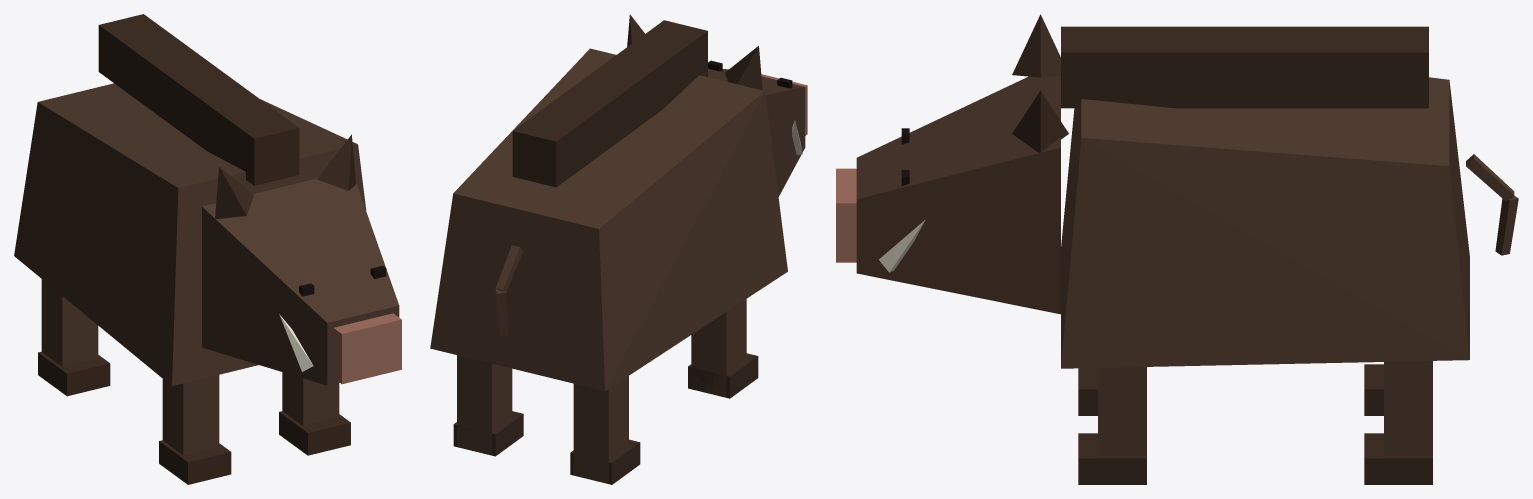
Rendered from boar.glb.
3 views of the same model, side by side, from view 1: azimuth 30°, elevation 25°; view 2: azimuth 150°, elevation 25°; view 3: azimuth 270°, elevation 25° (orthographic). The views are drawn at different scales.
Parts seen in each view (by area): view 1: boar, Head_boar, fur_dark, Leg2_boar, Head_boar_snout, Leg0_boar, Head_fur_dark, Leg3_boar, Leg0_fur_dark, Leg2_fur_dark, Leg3_fur_dark, Head_tooth; view 2: boar, fur_dark, Leg0_boar, Leg1_boar, Leg2_boar, Head_boar, Leg2_fur_dark, Head_fur_dark, Tail_boar, Leg1_fur_dark, Leg0_fur_dark; view 3: boar, Head_boar, fur_dark, Leg1_boar, Leg3_boar, Head_fur_dark, Leg1_fur_dark, Leg3_fur_dark, Head_boar_snout, Tail_boar, Leg0_fur_dark, Leg2_fur_dark.
Boxes of the visible parts, x1,y1,x2,y2 form: boar: [14, 83, 366, 386]; Head_boar: [202, 178, 399, 385]; fur_dark: [98, 14, 299, 185]; Leg2_boar: [162, 375, 219, 455]; Head_boar_snout: [333, 313, 401, 384]; Leg0_boar: [41, 279, 98, 366]; Head_fur_dark: [215, 134, 355, 218]; Leg3_boar: [282, 372, 339, 426]; Leg0_fur_dark: [38, 351, 110, 396]; Leg2_fur_dark: [159, 440, 231, 484]; Leg3_fur_dark: [279, 411, 350, 455]; Head_tooth: [279, 314, 313, 371]; boar: [430, 48, 787, 390]; fur_dark: [512, 20, 707, 187]; Leg0_boar: [573, 376, 628, 483]; Leg1_boar: [457, 355, 512, 455]; Leg2_boar: [691, 299, 746, 397]; Head_boar: [708, 68, 805, 196]; Leg2_fur_dark: [688, 353, 758, 398]; Head_fur_dark: [627, 14, 762, 90]; Tail_boar: [495, 245, 523, 336]; Leg1_fur_dark: [453, 411, 523, 456]; Leg0_fur_dark: [570, 439, 640, 484]; boar: [1061, 77, 1469, 368]; Head_boar: [856, 76, 1060, 314]; fur_dark: [1061, 26, 1428, 108]; Leg1_boar: [1384, 361, 1432, 456]; Leg3_boar: [1098, 367, 1146, 456]; Head_fur_dark: [1012, 14, 1068, 152]; Leg1_fur_dark: [1364, 433, 1432, 484]; Leg3_fur_dark: [1078, 433, 1146, 484]; Head_boar_snout: [836, 168, 856, 262]; Tail_boar: [1466, 154, 1518, 255]; Leg0_fur_dark: [1364, 364, 1383, 415]; Leg2_fur_dark: [1078, 368, 1097, 415].
Bounding box in the file's own units: 0.7 × 1.08 × 1.67.
